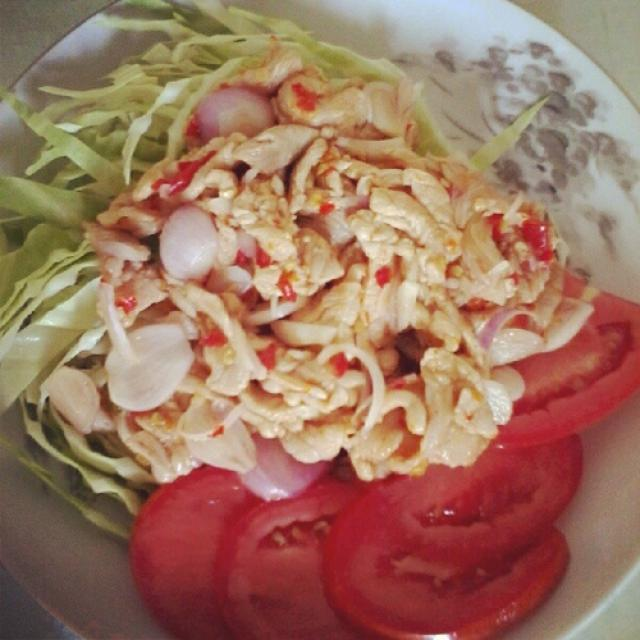猪肉菜式: (19, 5, 620, 621)
